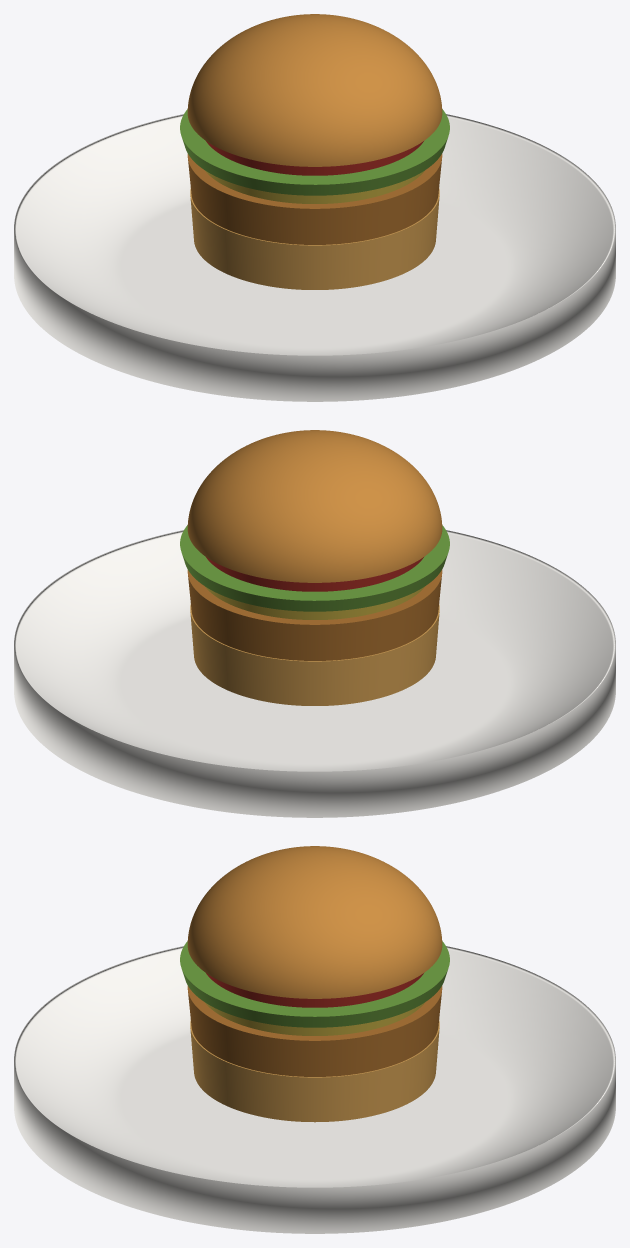
The model's file is burger-3-hero.glb.
3 views of the same model, one above another, from view 1: azimuth 30°, elevation 25°; view 2: azimuth 150°, elevation 25°; view 3: azimuth 270°, elevation 25° (orthographic).
Bounding box in the file's own units: 0.26 × 0.1166 × 0.26.
